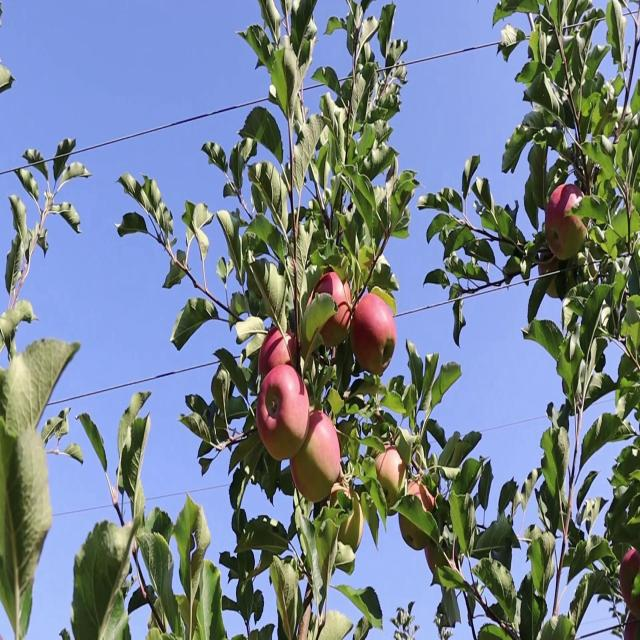apple: (256, 369, 312, 464), (296, 405, 343, 505), (352, 291, 399, 379), (312, 270, 354, 350), (304, 412, 343, 498), (548, 184, 590, 263), (260, 327, 296, 380), (376, 447, 407, 501), (408, 469, 438, 516), (620, 547, 640, 617), (340, 504, 367, 553), (624, 618, 640, 639)
